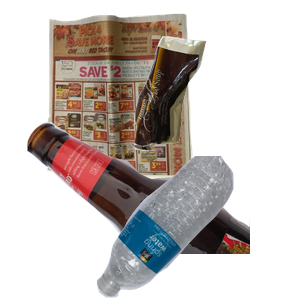glass: (25, 120, 265, 300)
paper: (44, 11, 229, 181)
plastic: (94, 156, 300, 300)
trash: (131, 34, 300, 177)
